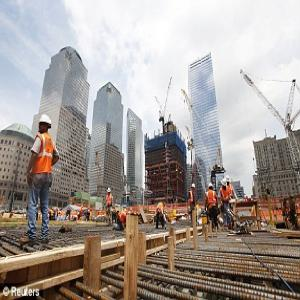white: (39, 115, 52, 135), (222, 179, 228, 190), (191, 183, 196, 192), (209, 183, 214, 192), (227, 176, 231, 186), (108, 188, 111, 195)
